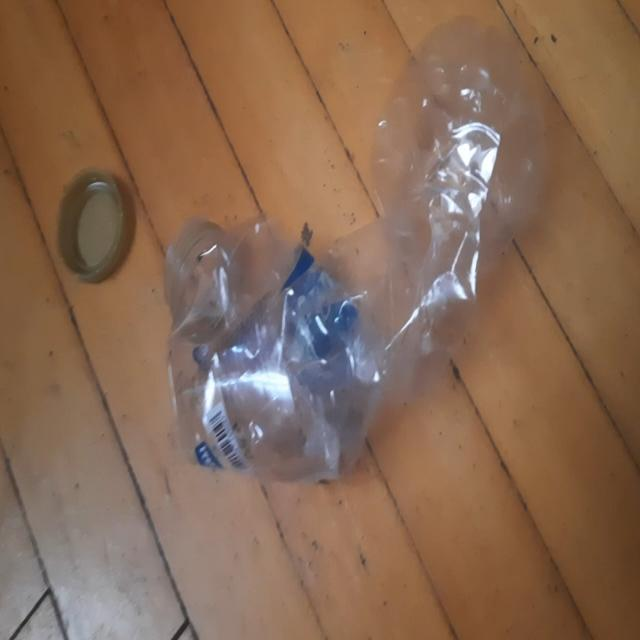Plastic: (167, 41, 540, 483)
